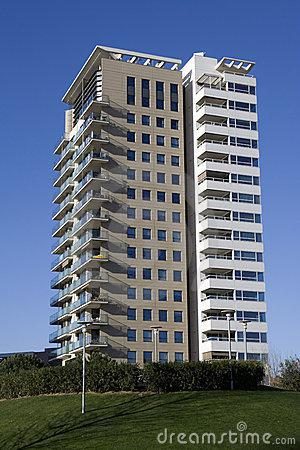affected: (47, 28, 257, 390)
